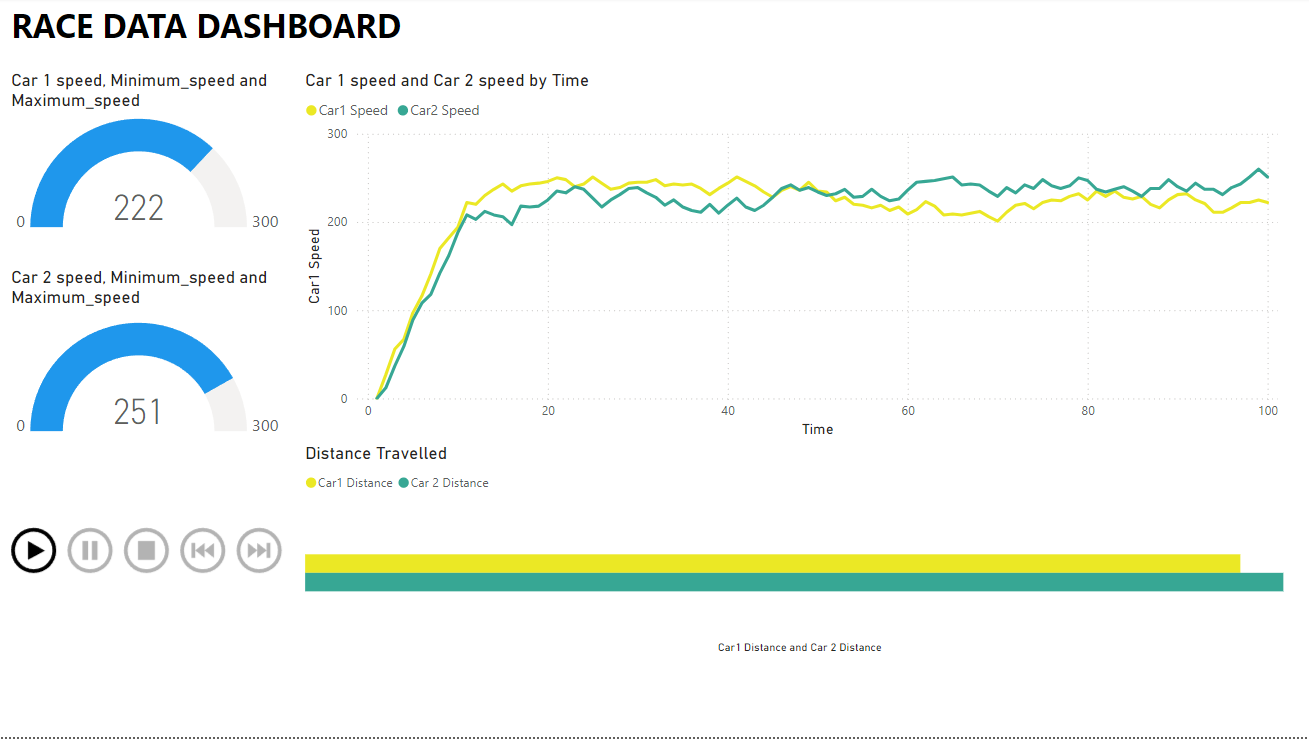

This screenshot's page, from the dashboard's own definition file:
{"tool":"powerbi","page":{"name":"Page 1","canvas":[1280,720],"ordinal":0},"visuals":[{"type":"textbox","box":[9.7,0,1258.6,102.1],"z":0},{"type":"gauge","fields":{"Y":["Sum(data.car1speed)"],"MinValue":["data.Minimum_speed"],"MaxValue":["data.Maximum_speed"]},"box":[9.7,71,275.3,167.3],"z":1000},{"type":"gauge","fields":{"MinValue":["data.Minimum_speed"],"MaxValue":["data.Maximum_speed"],"Y":["Sum(data.car2speed)"]},"box":[9.7,262.6,275.3,180.9],"z":2000},{"type":"lineChart","title":"Car 1 speed and Car 2 speed by Time","fields":{"Category":["data.Time"],"Y":["Sum(data.car1speedtotal)"],"Y2":["Sum(data.car2speedtotal)"]},"box":[295.7,71,956.1,362.8],"z":3000},{"type":"clusteredBarChart","title":"Distance Travelled","fields":{"Y":["Sum(data.car1distance)","Sum(data.car2distance)"]},"box":[295.7,433.8,972.6,209.1],"z":4000},{"type":"PBI_CV_16948668_E17D_454B_8664_2F2C470EA8C1_DEV","fields":{"category":["data.Time"]},"box":[10,434,275,209],"z":5000}]}

Visuals, with their boxes in screenshot pixels (x1, y1, x2, y2), scaled from the page's 1280x720 canvas onto the 1309x744 screenshot:
textbox: [10,0,1297,106]
gauge - Sum(data.car1speed) x data.Minimum_speed: [10,73,291,246]
gauge - data.Minimum_speed x data.Maximum_speed: [10,271,291,458]
"Car 1 speed and Car 2 speed by Time" lineChart: [302,73,1280,448]
"Distance Travelled" clusteredBarChart: [302,448,1297,664]
PBI_CV_16948668_E17D_454B_8664_2F2C470EA8C1_DEV - data.Time: [10,448,291,664]
